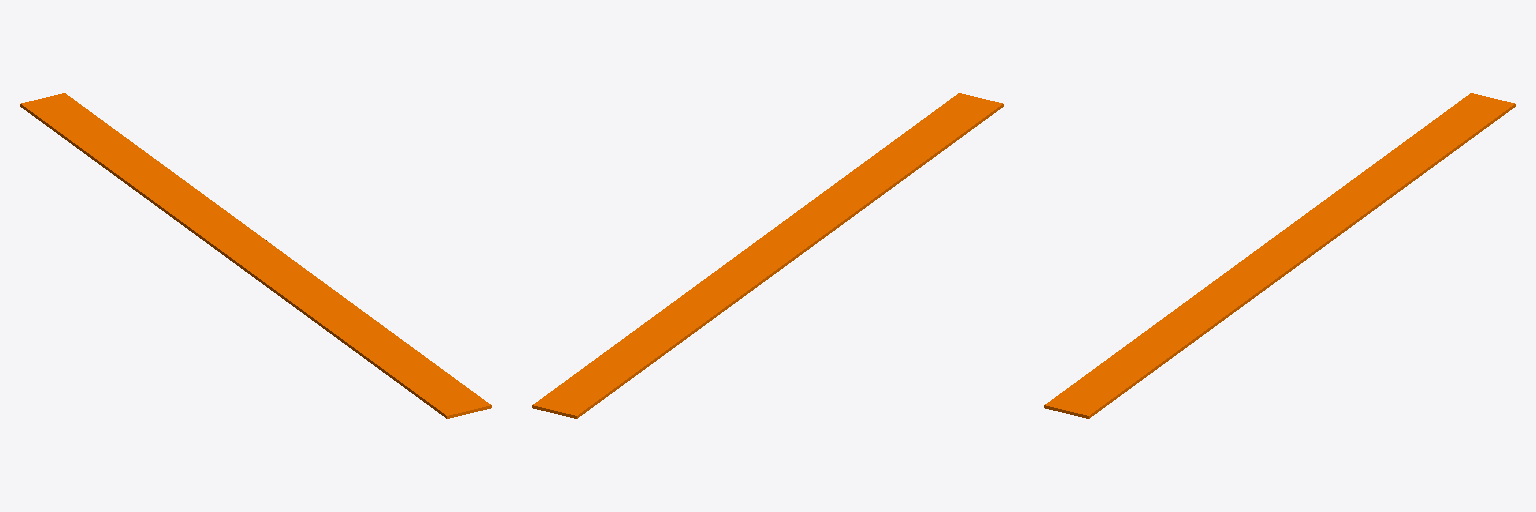
URDF robot description (ypaddle2D):
<robot name="ypaddle2D">
    
  <link name="base_link">
    <inertial>
      <origin rpy="0 0 0" xyz="0 0 0"/>
       <mass value="0"/>
       <inertia ixx="0" ixy="0" ixz="0" iyy="0" iyz="0" izz="0"/>
    </inertial>
  </link>

  <link name="x_link">
    <inertial>
      <origin rpy="0 0 0" xyz="0 0 0"/>
       <mass value="0.0001"/>
       <inertia ixx="0.0001" ixy="0" ixz="0" iyy="0.0001" iyz="0" izz="0.0001"/>
    </inertial>
  </link>


  <link name="y_link">
    <inertial>
      <origin rpy="0 0 0" xyz="0 0 0"/>
       <mass value="0.0001"/>
       <inertia ixx="0.0001" ixy="0" ixz="0" iyy="0.0001" iyz="0" izz="0.0001"/>
    </inertial>
  </link>


  <link name="theta_link">
    <inertial>
      <origin rpy="0 0 0" xyz="0 0 0"/>
       <mass value="1.0"/>
       <inertia ixx="0.0001" ixy="0" ixz="0" iyy="0.0001" iyz="0" izz="0.0001"/>
    </inertial>

    <visual>
      <origin rpy="0 0 0" xyz="0 0 0"/>
      <geometry>
        <box size="3.0 50 0.2" />      
      </geometry>
      <material name="white">
        <color rgba="1 0.5 0 1"/>
      </material>
    </visual>
    
    <collision>
      <origin rpy="0 0 0" xyz="0 0 0"/>
      <geometry>
        <box size="3.0 50 0.2" />
      </geometry>
    </collision>
  </link>

  <joint name = "x_prismatic" type = "prismatic">
    <origin xyz = "0.0 0.0 0.0" rpy = "0 0 0"/> 
    <parent link = "base_link"/>
    <child link= "x_link"/>
    <axis xyz = "1 0 0"/>
    <limit effort="1.0" lower="-10000" upper="10000" velocity="10000" />
    <dynamics damping = "0.0" friction="0.0" />
  </joint>

  <joint name = "y_prismatic" type = "prismatic">
    <origin xyz = "0.0 0.0 0.0" rpy = "0 0 0"/> 
    <parent link = "x_link" />
    <child link= "y_link"/>
    <axis xyz = "0 1 0" />
    <limit effort="1.0" lower="-10000" upper="10000" velocity="10000" />
    <dynamics damping = "0.0" friction="0.0" />
  </joint>

   <joint name = "theta_revolute" type = "revolute">
    <origin xyz = "0.0 0.0 0.0" rpy = "0 0 0"/> 
    <parent link = "y_link" />
    <child link= "theta_link"/>
    <axis xyz = "0 0 1" />
    <limit effort="1.0" lower="-10000" upper="10000" velocity="10000" />
    <dynamics damping = "0.0" friction="0.0" />
  </joint>

    
</robot>

--- Render facts (derived) ---
3 views of the same robot in one strip: view 1: azimuth 30°, elevation 25°; view 2: azimuth 150°, elevation 25°; view 3: azimuth 330°, elevation 25° (orthographic).
Model ypaddle2D with 4 links and 3 joints (1 revolute, 2 prismatic), rooted at base_link, posed every joint at zero.
Links seen in each view (by area): view 1: theta_link; view 2: theta_link; view 3: theta_link.
Link boxes in pixels (x1,y1,x2,y2): theta_link: [20, 93, 491, 418]; theta_link: [532, 93, 1003, 418]; theta_link: [1044, 93, 1515, 418].
Size in the robot's own frame: 3 by 50 by 0.2 metres.
Geometry: primitives only (box / cylinder / sphere), no mesh files.